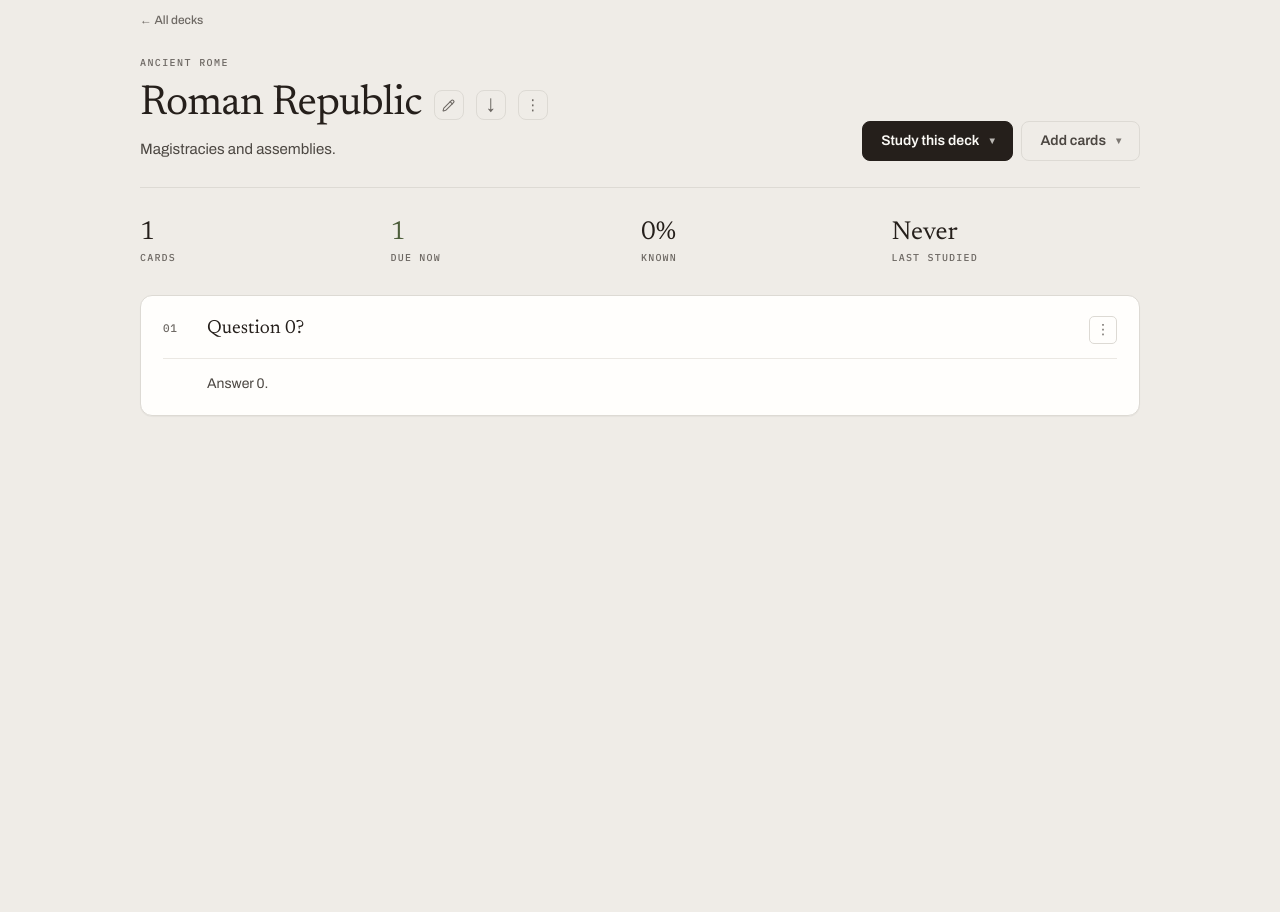
Test: exporting the deck › says what it saved
The image size is (1280, 912).
Click the button named "Export deck". click: (491, 105)
box: [476,90,506,120]
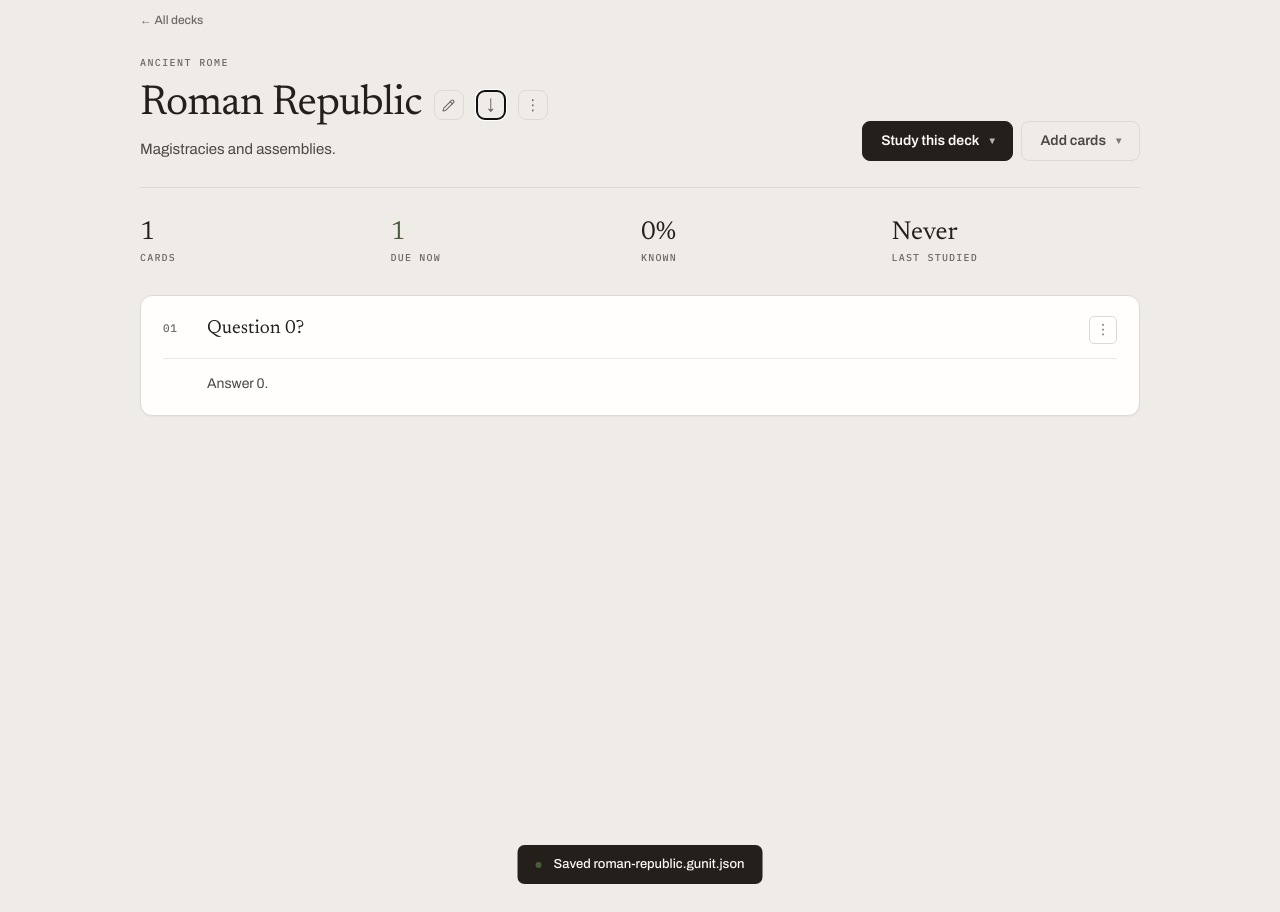
Result: the text "Saved roman-republic.gunit.json" is shown at [554,858,744,871]
